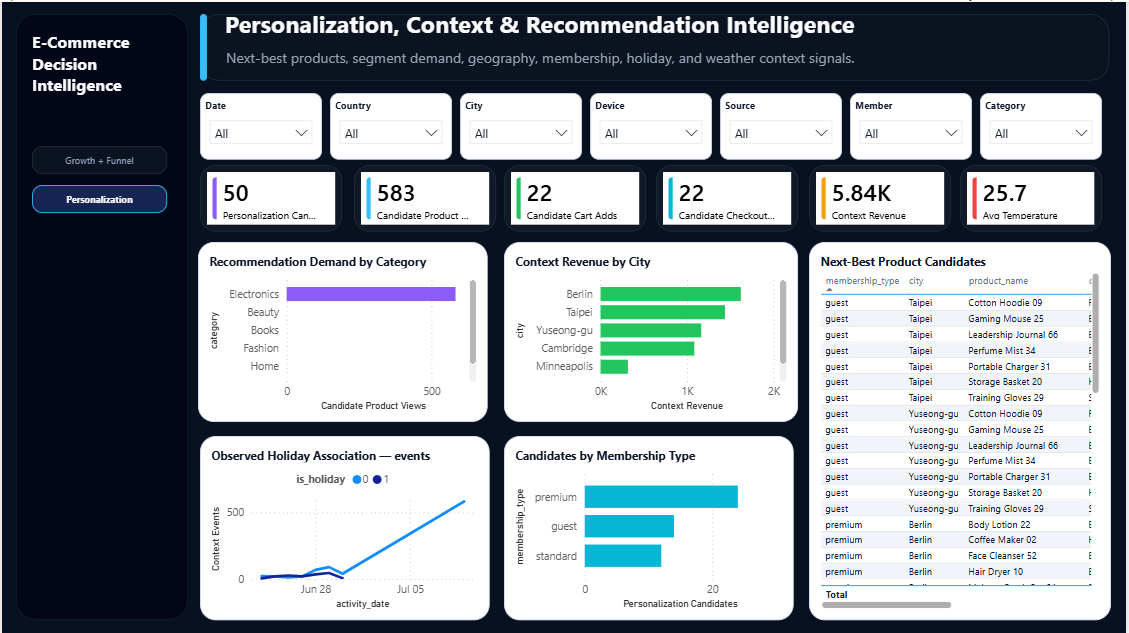

This screenshot's page, from the dashboard's own definition file:
{"tool":"powerbi","page":{"name":"02 Personalization & Context Studio","canvas":[1280,720],"ordinal":1},"visuals":[{"type":"textbox","box":[16,14,196,690],"z":0},{"type":"textbox","box":[226,14,1036,76],"z":1000},{"type":"textbox","box":[226,14,8,76],"z":2000},{"type":"textbox","box":[34,32,160,86],"z":3000},{"type":"textbox","box":[34,164,154,32],"z":5000},{"type":"textbox","box":[34,208,154,32],"z":6000},{"type":"textbox","box":[254,7,999,49],"z":12000},{"type":"textbox","box":[255,52,917,38],"z":13000},{"type":"slicer","title":"Date","fields":{"Values":["Dim Date.activity_date"]},"box":[226,104,139,76],"z":15000},{"type":"slicer","title":"Country","fields":{"Values":["Dim User.country_code"]},"box":[374,104,139,76],"z":16000},{"type":"slicer","title":"City","fields":{"Values":["Dim User.city"]},"box":[522,104,139,76],"z":17000},{"type":"slicer","title":"Device","fields":{"Values":["Fact Clickstream.device_type"]},"box":[670,104,139,76],"z":18000},{"type":"slicer","title":"Source","fields":{"Values":["Fact Clickstream.traffic_source"]},"box":[818,104,139,76],"z":19000},{"type":"slicer","title":"Member","fields":{"Values":["Dim User.membership_type"]},"box":[966,104,139,76],"z":20000},{"type":"slicer","title":"Category","fields":{"Values":["Dim Product.category"]},"box":[1114,104,139,76],"z":21000},{"type":"cardVisual","fields":{"Data":["Mart Personalization.Personalization Candidates"]},"box":[226,186,162,76],"z":22000},{"type":"cardVisual","fields":{"Data":["Mart Personalization.Candidate Product Views"]},"box":[401,186,162,76],"z":23000},{"type":"cardVisual","fields":{"Data":["Mart Personalization.Candidate Cart Adds"]},"box":[572,186,162,76],"z":24000},{"type":"cardVisual","fields":{"Data":["Mart Personalization.Candidate Checkout Starts"]},"box":[745,186,162,76],"z":25000},{"type":"cardVisual","fields":{"Data":["Mart Context Impact.Context Revenue"]},"box":[919,186,162,76],"z":26000},{"type":"cardVisual","fields":{"Data":["Mart Context Impact.Avg Temperature"]},"box":[1091.4,185.7,161.8,76.3],"z":27000},{"type":"barChart","title":"Recommendation Demand by Category","fields":{"Category":["Mart Personalization.category"],"Y":["Mart Personalization.Candidate Product Views"]},"box":[223,273,330,205],"z":32000},{"type":"barChart","title":"Context Revenue by City","fields":{"Category":["Mart Context Impact.city"],"Y":["Mart Context Impact.Context Revenue"]},"box":[572,273,335,205],"z":33000},{"type":"lineChart","title":"Observed Holiday Association — events","fields":{"Category":["Mart Context Impact.activity_date"],"Series":["Mart Context Impact.is_holiday"],"Y":["Mart Context Impact.Context Events"]},"box":[226,494,330,210],"z":34000},{"type":"barChart","title":"Candidates by Membership Type","fields":{"Category":["Mart Personalization.membership_type"],"Y":["Mart Personalization.Personalization Candidates"]},"box":[572,494,330,210],"z":35000},{"type":"tableEx","title":"Next-Best Product Candidates","fields":{"Values":["Mart Personalization.membership_type","Mart Personalization.city","Mart Personalization.product_name","Mart Personalization.category","Sum(Mart Personalization.product_view_count)","Sum(Mart Personalization.add_to_cart_count)"]},"box":[919,273,344,431],"z":36000}]}

Visuals, with their boxes in screenshot pixels (x1, y1, x2, y2):
textbox: 26 21 195 618
textbox: 207 21 1104 87
textbox: 207 21 214 87
textbox: 41 37 180 111
textbox: 41 151 175 179
textbox: 41 189 175 217
textbox: 232 15 1097 57
textbox: 233 54 1026 87
"Date" slicer: 207 99 328 165
"Country" slicer: 336 99 456 165
"City" slicer: 464 99 584 165
"Device" slicer: 592 99 712 165
"Source" slicer: 720 99 840 165
"Member" slicer: 848 99 968 165
"Category" slicer: 976 99 1097 165
cardVisual - Mart Personalization.Personalization Candidates: 207 170 348 236
cardVisual - Mart Personalization.Candidate Product Views: 359 170 499 236
cardVisual - Mart Personalization.Candidate Cart Adds: 507 170 647 236
cardVisual - Mart Personalization.Candidate Checkout Starts: 657 170 797 236
cardVisual - Mart Context Impact.Context Revenue: 807 170 948 236
cardVisual - Mart Context Impact.Avg Temperature: 957 170 1097 236
"Recommendation Demand by Category" barChart: 205 245 491 423
"Context Revenue by City" barChart: 507 245 797 423
"Observed Holiday Association — events" lineChart: 207 437 493 618
"Candidates by Membership Type" barChart: 507 437 793 618
"Next-Best Product Candidates" tableEx: 807 245 1105 618
